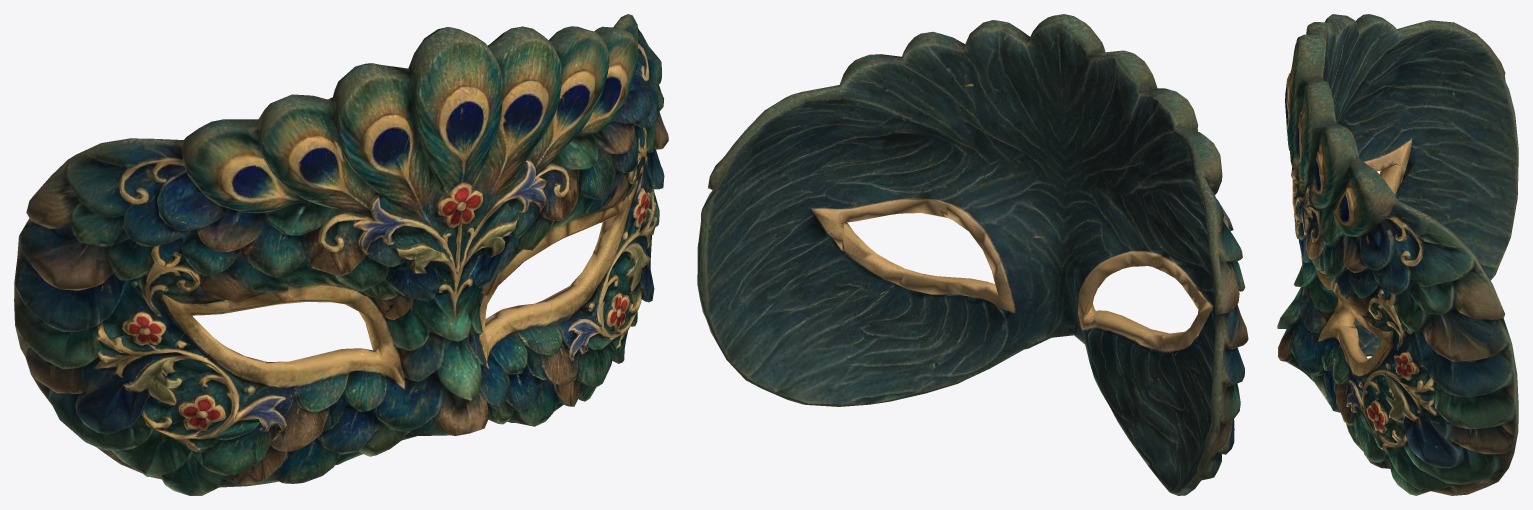
3 renders of one model, left to right at view 1: azimuth 30°, elevation 25°; view 2: azimuth 150°, elevation 25°; view 3: azimuth 270°, elevation 25°, orthographic. The views are drawn at different scales.
Bounding box in the file's own units: 1.9 × 1.33 × 0.7696.
Materials: 1 (1 with a texture image).
